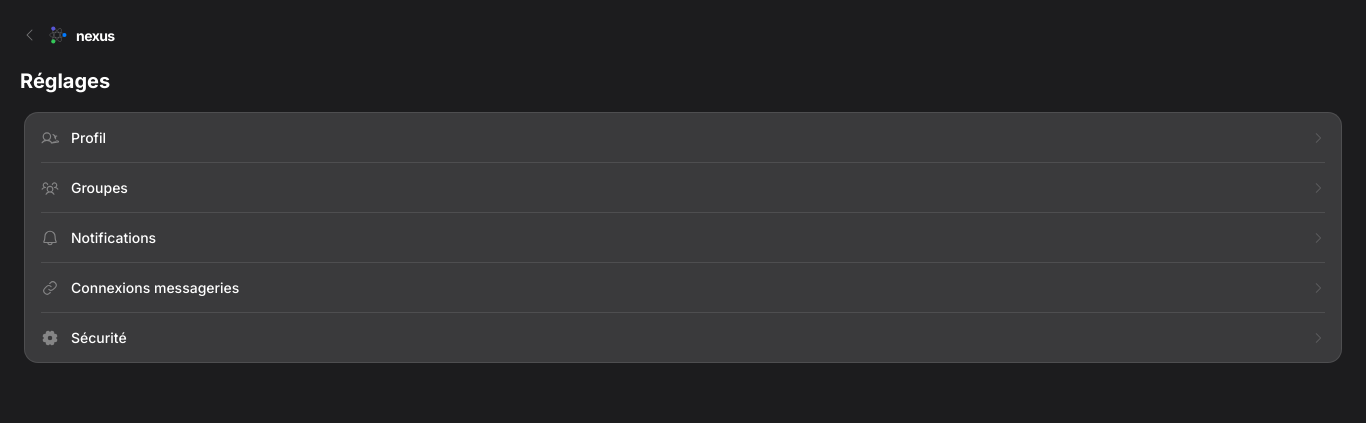
it: SettingsScreen — responsive › mobile (< 768px) › cliquer une section affiche son contenu avec un bouton retour
The width and height of the screenshot is (1366, 423).
Click the button "Sécurité" at point(99, 338), box [25,313,1341,362]
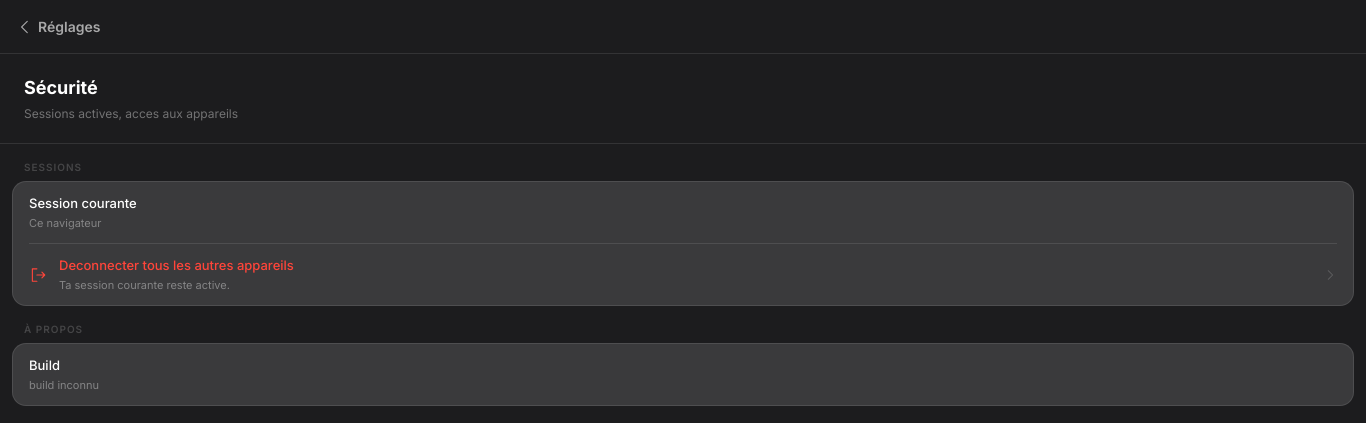
Expected: the button with aria-label "Retour aux réglages" is shown, [12,12,104,41]
Expected: the text "Sessions actives, acces aux appareils" is shown, [24,105,238,123]
